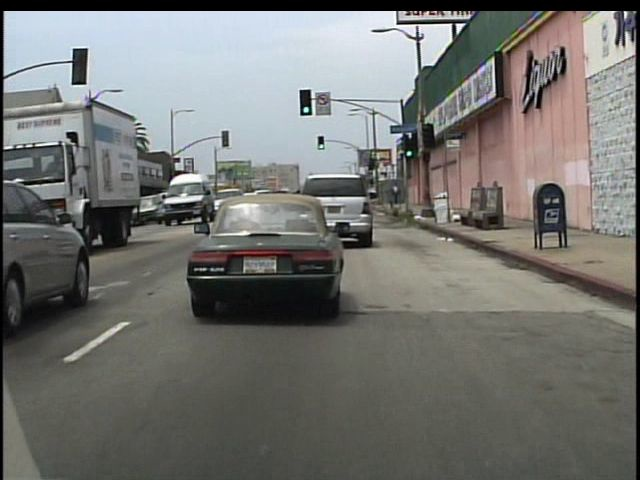person: (393, 183, 403, 206)
